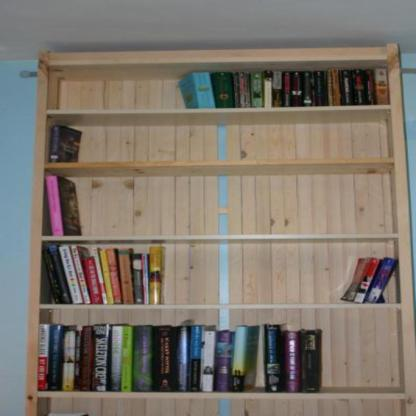book: (35, 312, 320, 392), (179, 68, 388, 108), (42, 242, 168, 302), (338, 256, 400, 306), (46, 172, 82, 236), (50, 122, 81, 164)
